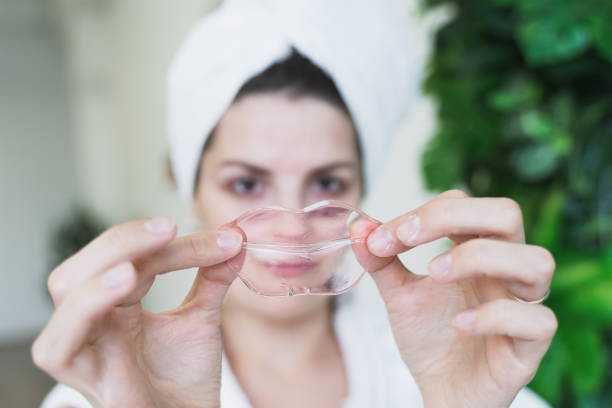without mask: (186, 88, 382, 299)
